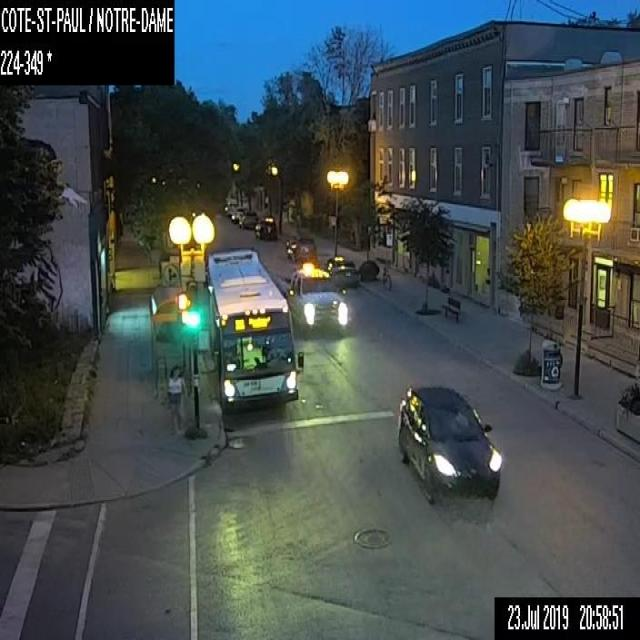bus: (204, 247, 304, 411)
pedestrian: (166, 364, 188, 433)
vehicle: (396, 383, 502, 503), (276, 262, 347, 333), (324, 256, 359, 288), (285, 234, 316, 262), (254, 217, 276, 240), (238, 209, 258, 228), (231, 206, 244, 222)
